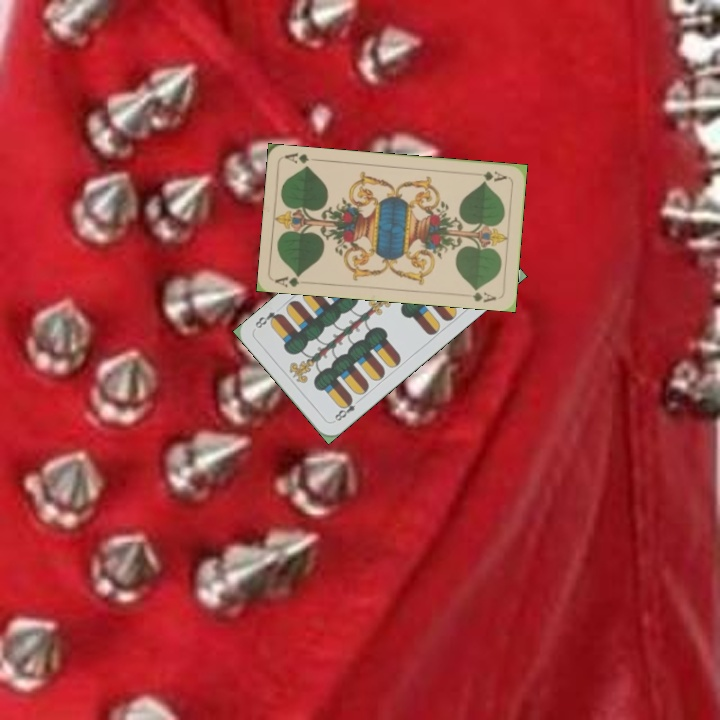E8: (329, 394, 358, 425)
GA: (470, 167, 509, 184), (272, 270, 303, 290)
